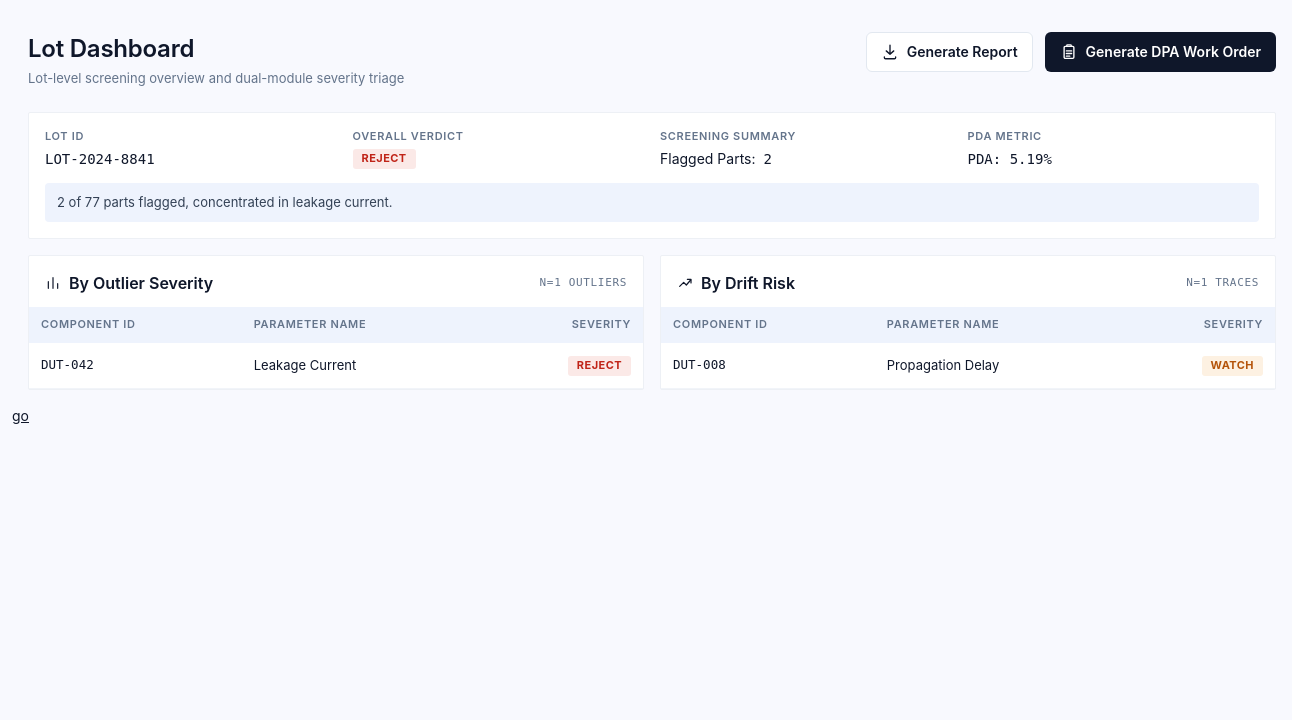
Lot Dashboard screen (E6 screen 3) › navigating to a different lot clears a stale Generate Report error from the previous one
Expected: the text "PDA: 5.19%" is shown, [968,151,1052,167]
Click the button "Generate Report": (949, 52) [866,32,1033,72]
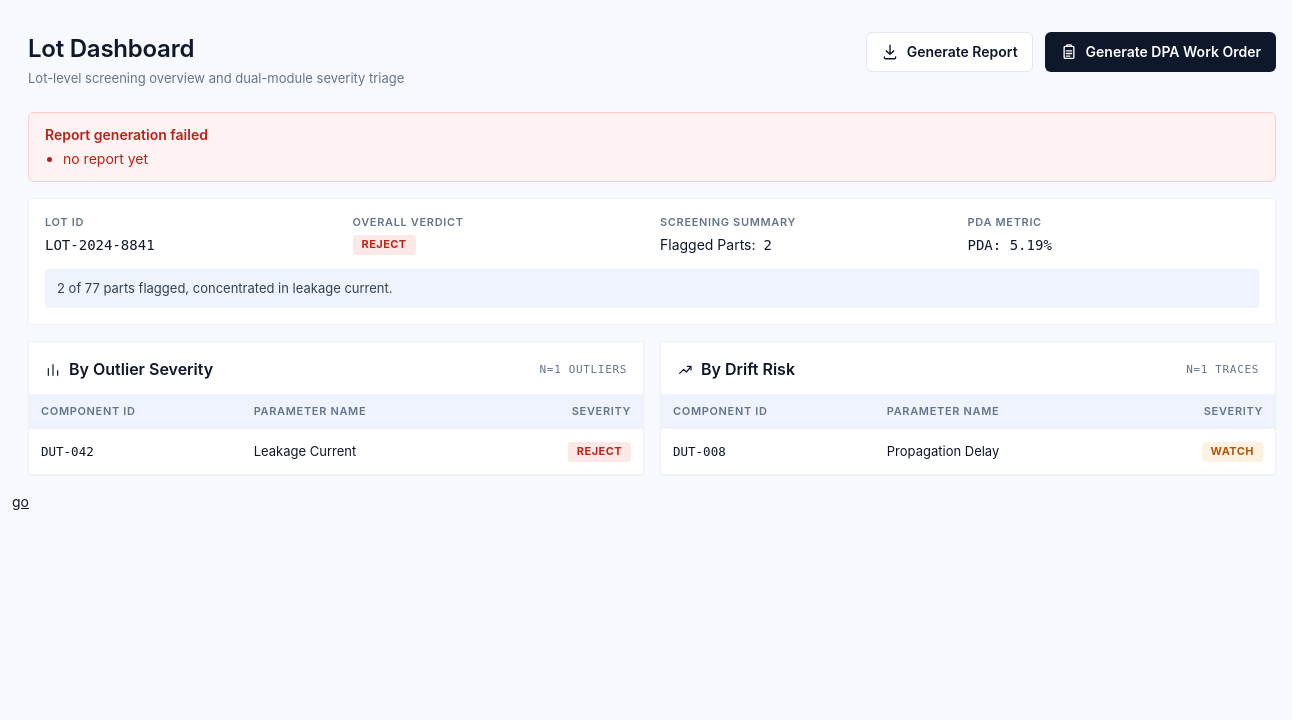
Expected: the text "Report generation failed" is shown, [45,126,208,143]
Click the link "go": (20, 502) [12,493,29,510]
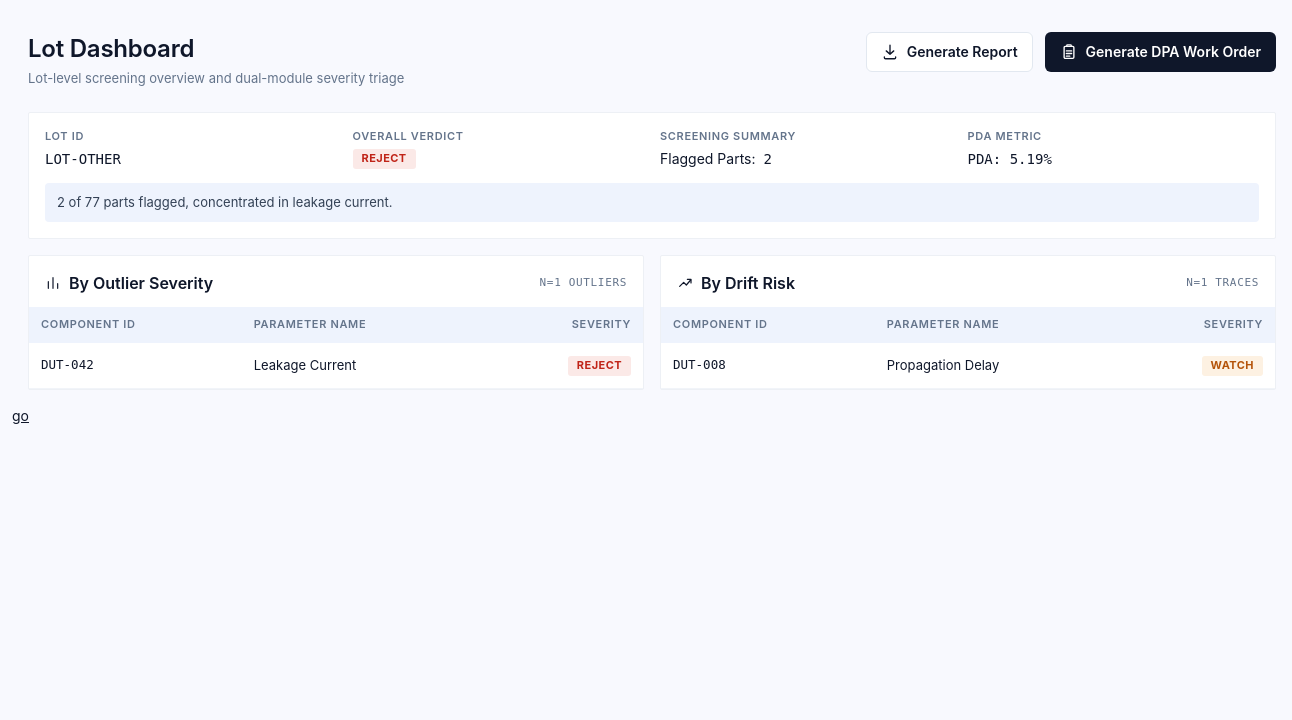
Expected: the text "Report generation failed" is gone
